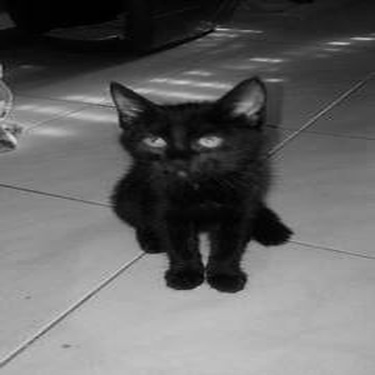cat: (102, 73, 293, 293)
